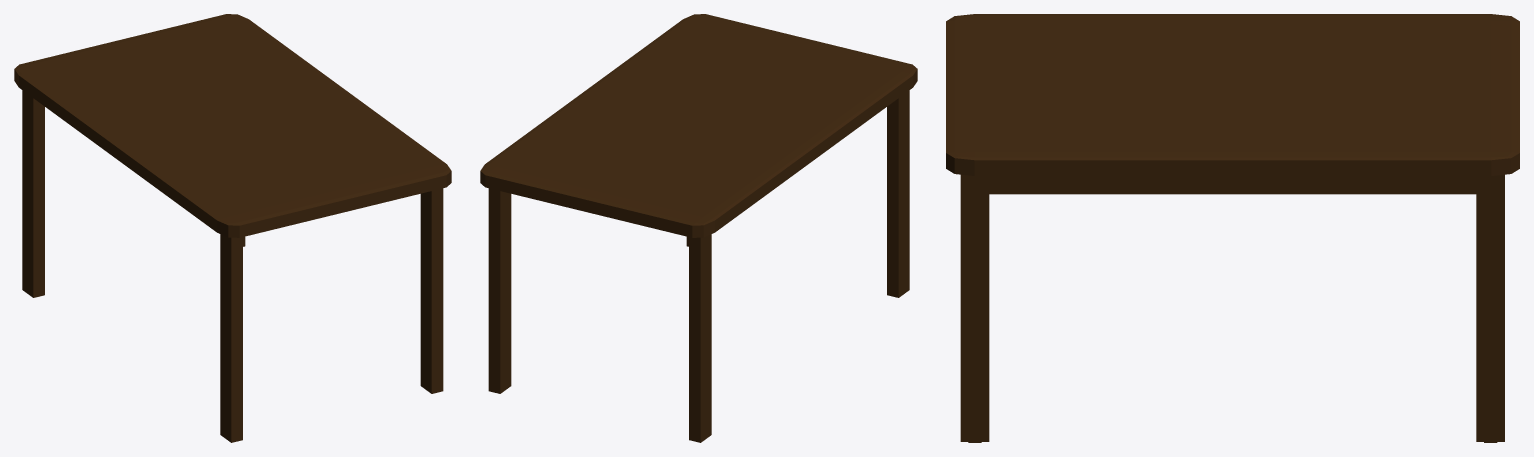
The model's file is desk.glb.
The picture shows the model from 3 angles, left to right: view 1: azimuth 30°, elevation 25°; view 2: azimuth 150°, elevation 25°; view 3: azimuth 270°, elevation 25°; orthographic projection. The views are drawn at different scales.
Parts seen in each view (by area): view 1: Cube.002; view 2: Cube.002; view 3: Cube.002.
Part boxes in pixels (x1,y1,x2,y2): Cube.002: (14, 14, 451, 442); Cube.002: (480, 14, 917, 442); Cube.002: (946, 14, 1519, 442).
Size of the model in its own units: 1.01 by 0.9398 by 1.68.
